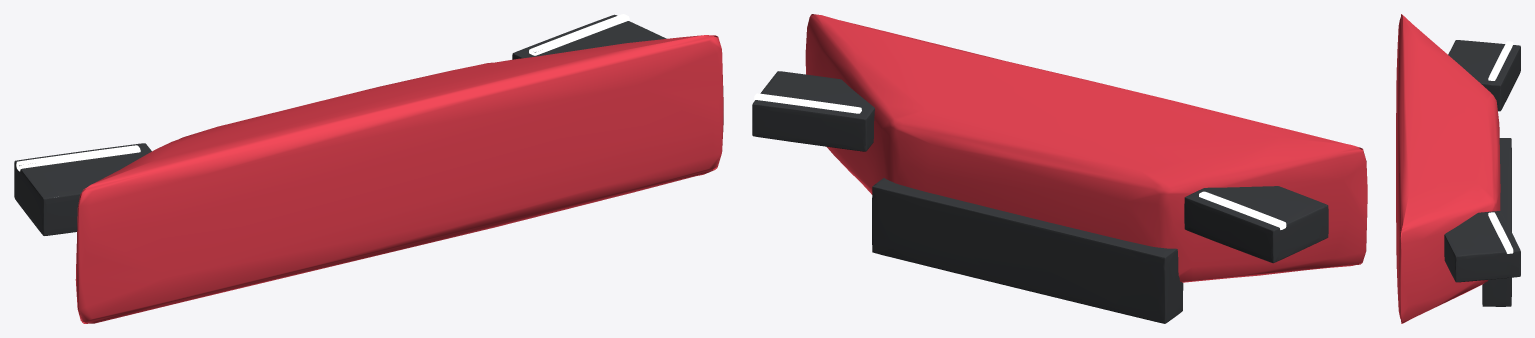
Rendered from hypercar_front_bumper_fascia.glb.
3 views of the same model, side by side, from view 1: azimuth 30°, elevation 25°; view 2: azimuth 150°, elevation 25°; view 3: azimuth 270°, elevation 25° (orthographic). The views are drawn at different scales.
Parts seen in each view (by area): view 1: Hypercar_Front_Bumper_Fascia; view 2: Hypercar_Front_Bumper_Fascia; view 3: Hypercar_Front_Bumper_Fascia.
Boxes of the visible parts, x1,y1,x2,y2 form: Hypercar_Front_Bumper_Fascia: (14,14,723,323); Hypercar_Front_Bumper_Fascia: (752,14,1367,323); Hypercar_Front_Bumper_Fascia: (1396,14,1520,323).
Size of the model in its own units: 1.39 by 0.3839 by 0.333.
